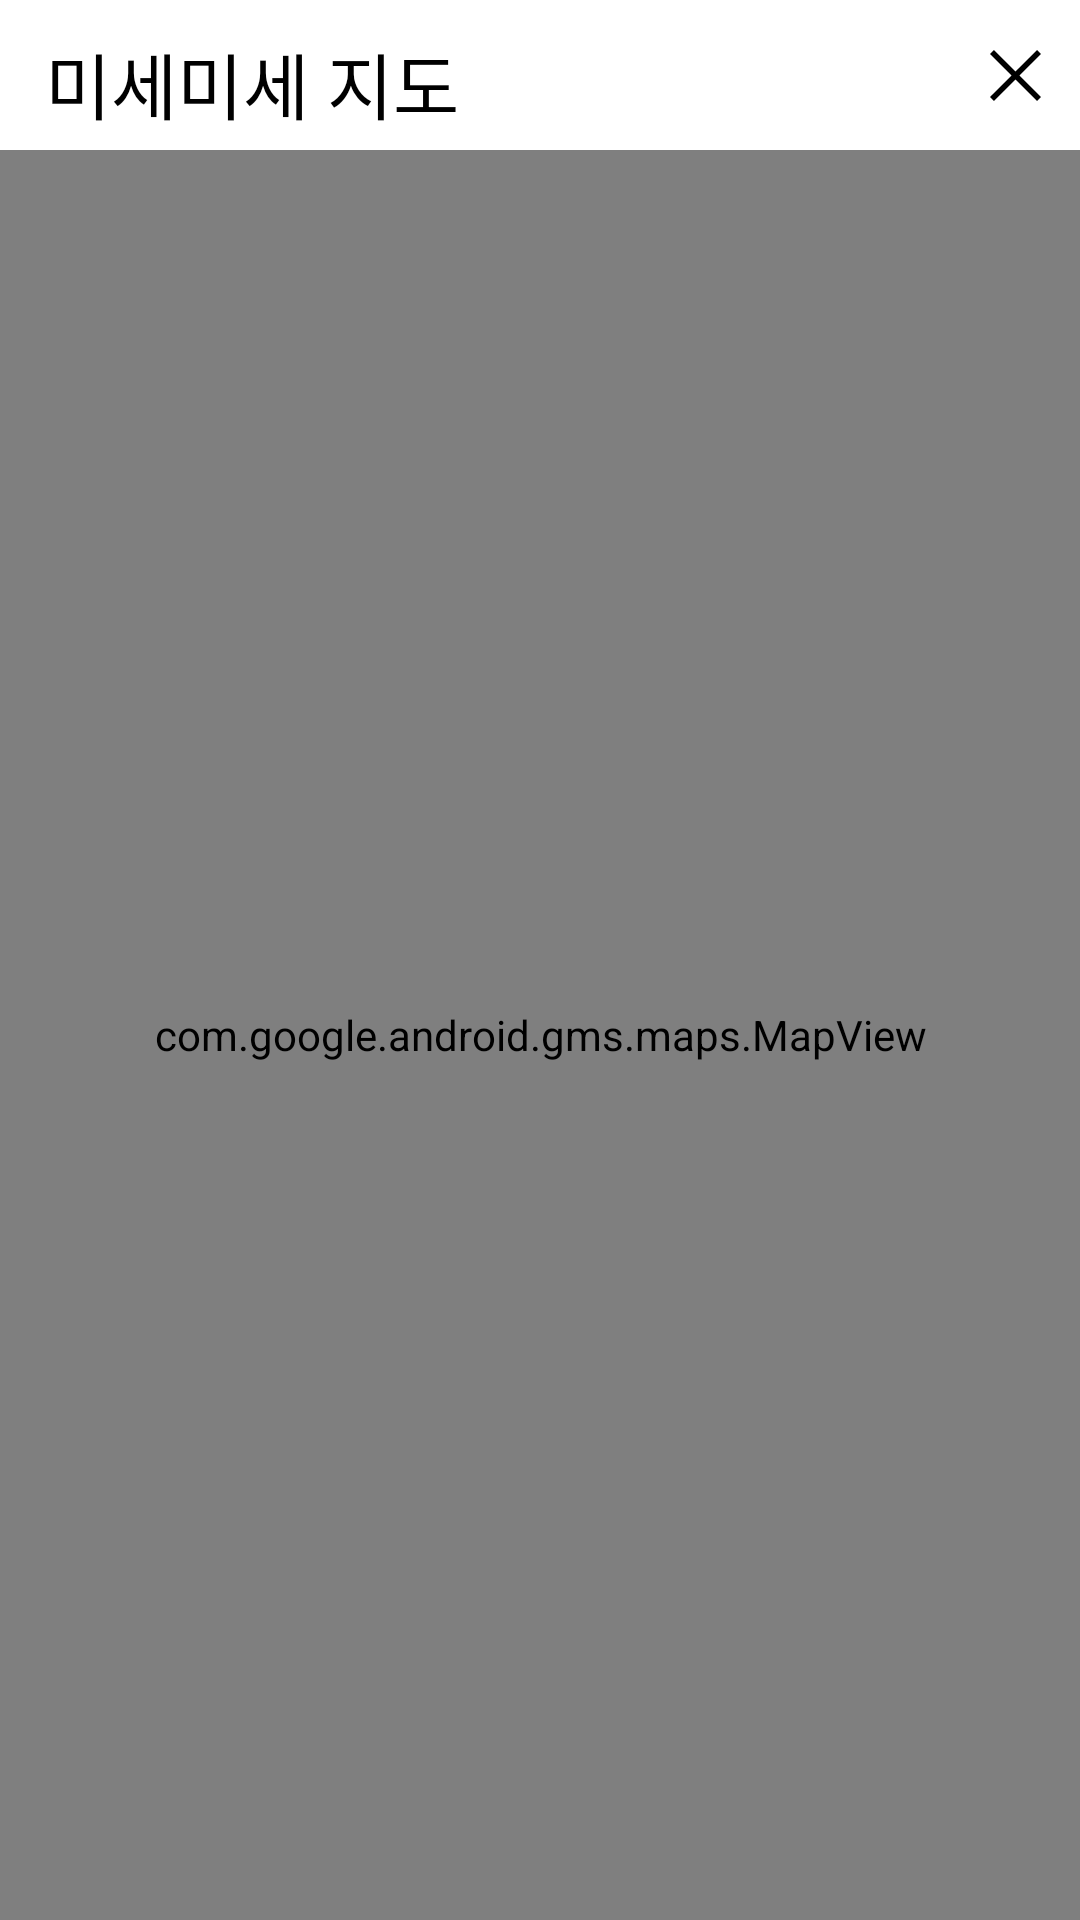

Named icons in this screenshot (1080 x 1920) and their centers, (x,y):
cancel: (1015,75)
